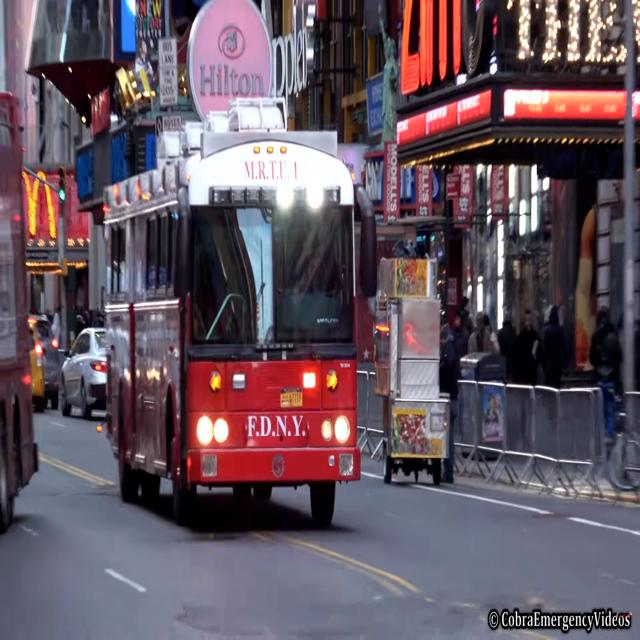emergency-vehicles: (74, 95, 392, 561)
